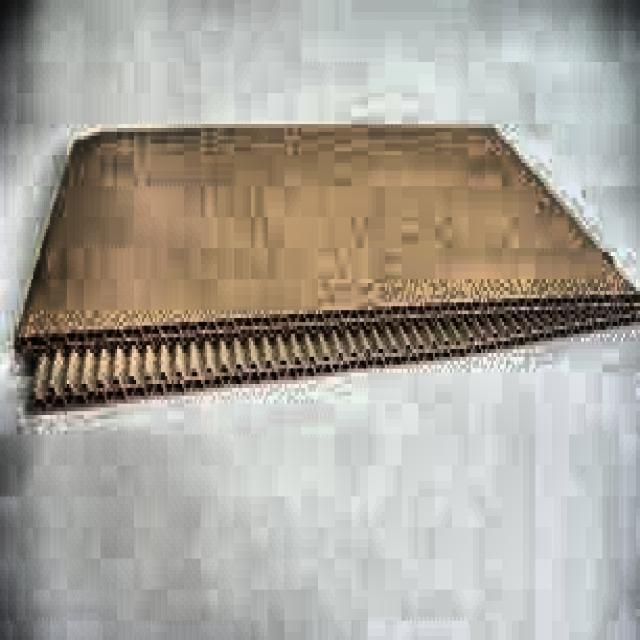cardboard: (12, 120, 638, 411)
